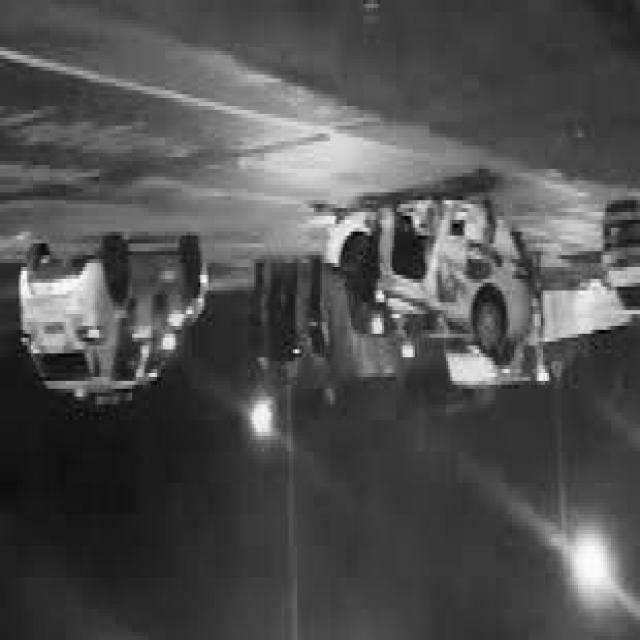severe: (334, 182, 537, 376)
